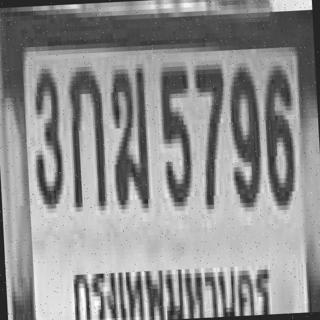A01: (65, 61, 106, 208)
A06: (108, 64, 150, 205)
N03: (29, 64, 63, 205)
N05: (157, 62, 193, 203)
N06: (261, 61, 294, 202)
N07: (194, 60, 229, 205)
N09: (226, 63, 262, 204)
P04: (68, 246, 278, 320)
